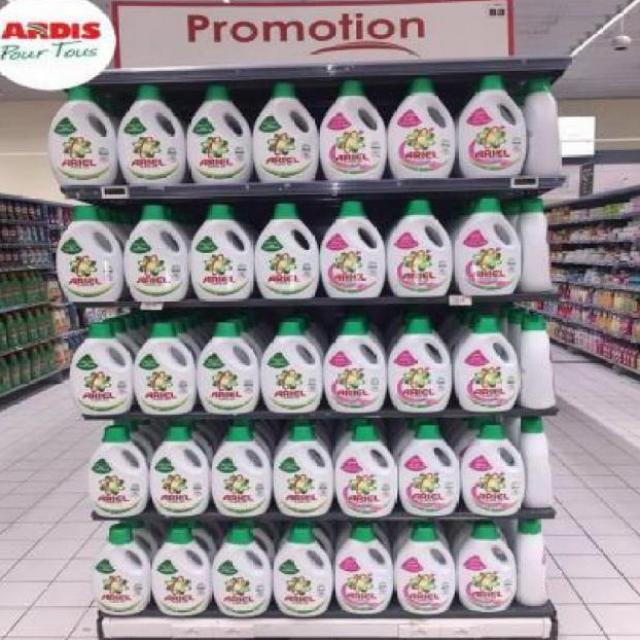Detergent: (322, 69, 392, 180), (450, 190, 524, 295), (115, 82, 188, 184), (450, 306, 519, 413), (382, 76, 455, 177), (49, 84, 119, 186), (457, 71, 523, 179), (253, 199, 323, 300), (186, 82, 254, 184), (125, 206, 198, 301), (386, 191, 452, 296), (207, 416, 275, 517), (51, 205, 122, 301), (332, 416, 399, 517), (319, 318, 390, 413), (259, 315, 326, 415), (396, 419, 464, 517), (459, 419, 528, 515), (384, 317, 452, 414), (269, 414, 332, 518), (66, 324, 137, 416), (197, 316, 263, 414), (452, 519, 520, 614), (269, 520, 336, 616), (192, 206, 260, 299), (390, 519, 458, 612), (324, 194, 384, 299), (91, 520, 152, 619), (331, 523, 395, 616), (146, 527, 212, 617), (213, 525, 275, 620), (135, 316, 195, 414), (88, 426, 150, 516), (148, 426, 210, 514)
